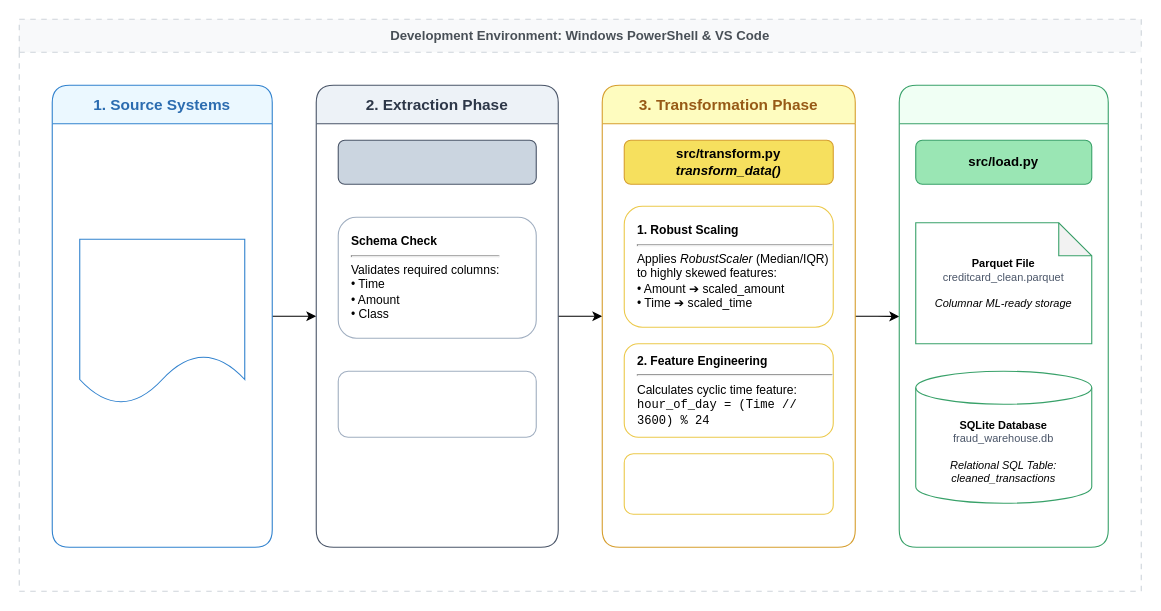
The diagram is 1161 pixels wide and 611 high, and some of its shapes have lost their labels. Here are the shapes that lost their labels. From the top down, the box of each, then its label:
(337, 139, 536, 184): src/extract.py extract_data()
(79, 238, 245, 404): Raw Dataset creditcard.csv (284,807 rows) Location: data/raw/
(898, 84, 1108, 547): 4. Load & Storage Phase
(337, 370, 536, 437): Console Logging Logs loaded row counts & errors
(623, 453, 833, 514): 3. Cleanup Drops raw Amount & Time
